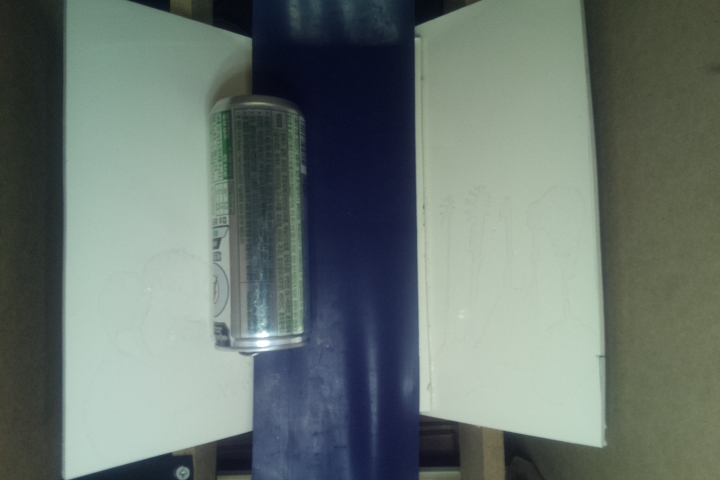can: (207, 96, 313, 361)
